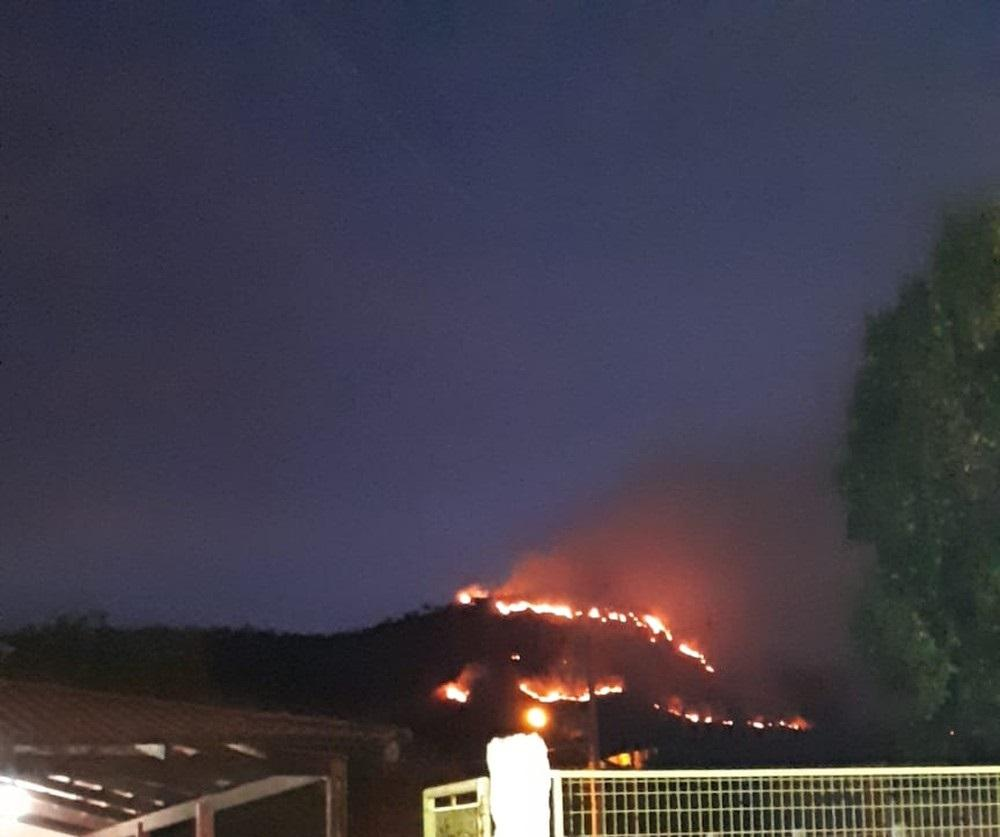fire: (468, 589, 720, 656), (674, 699, 808, 733), (518, 678, 624, 706), (441, 685, 478, 702)
smoke: (589, 510, 768, 568)
